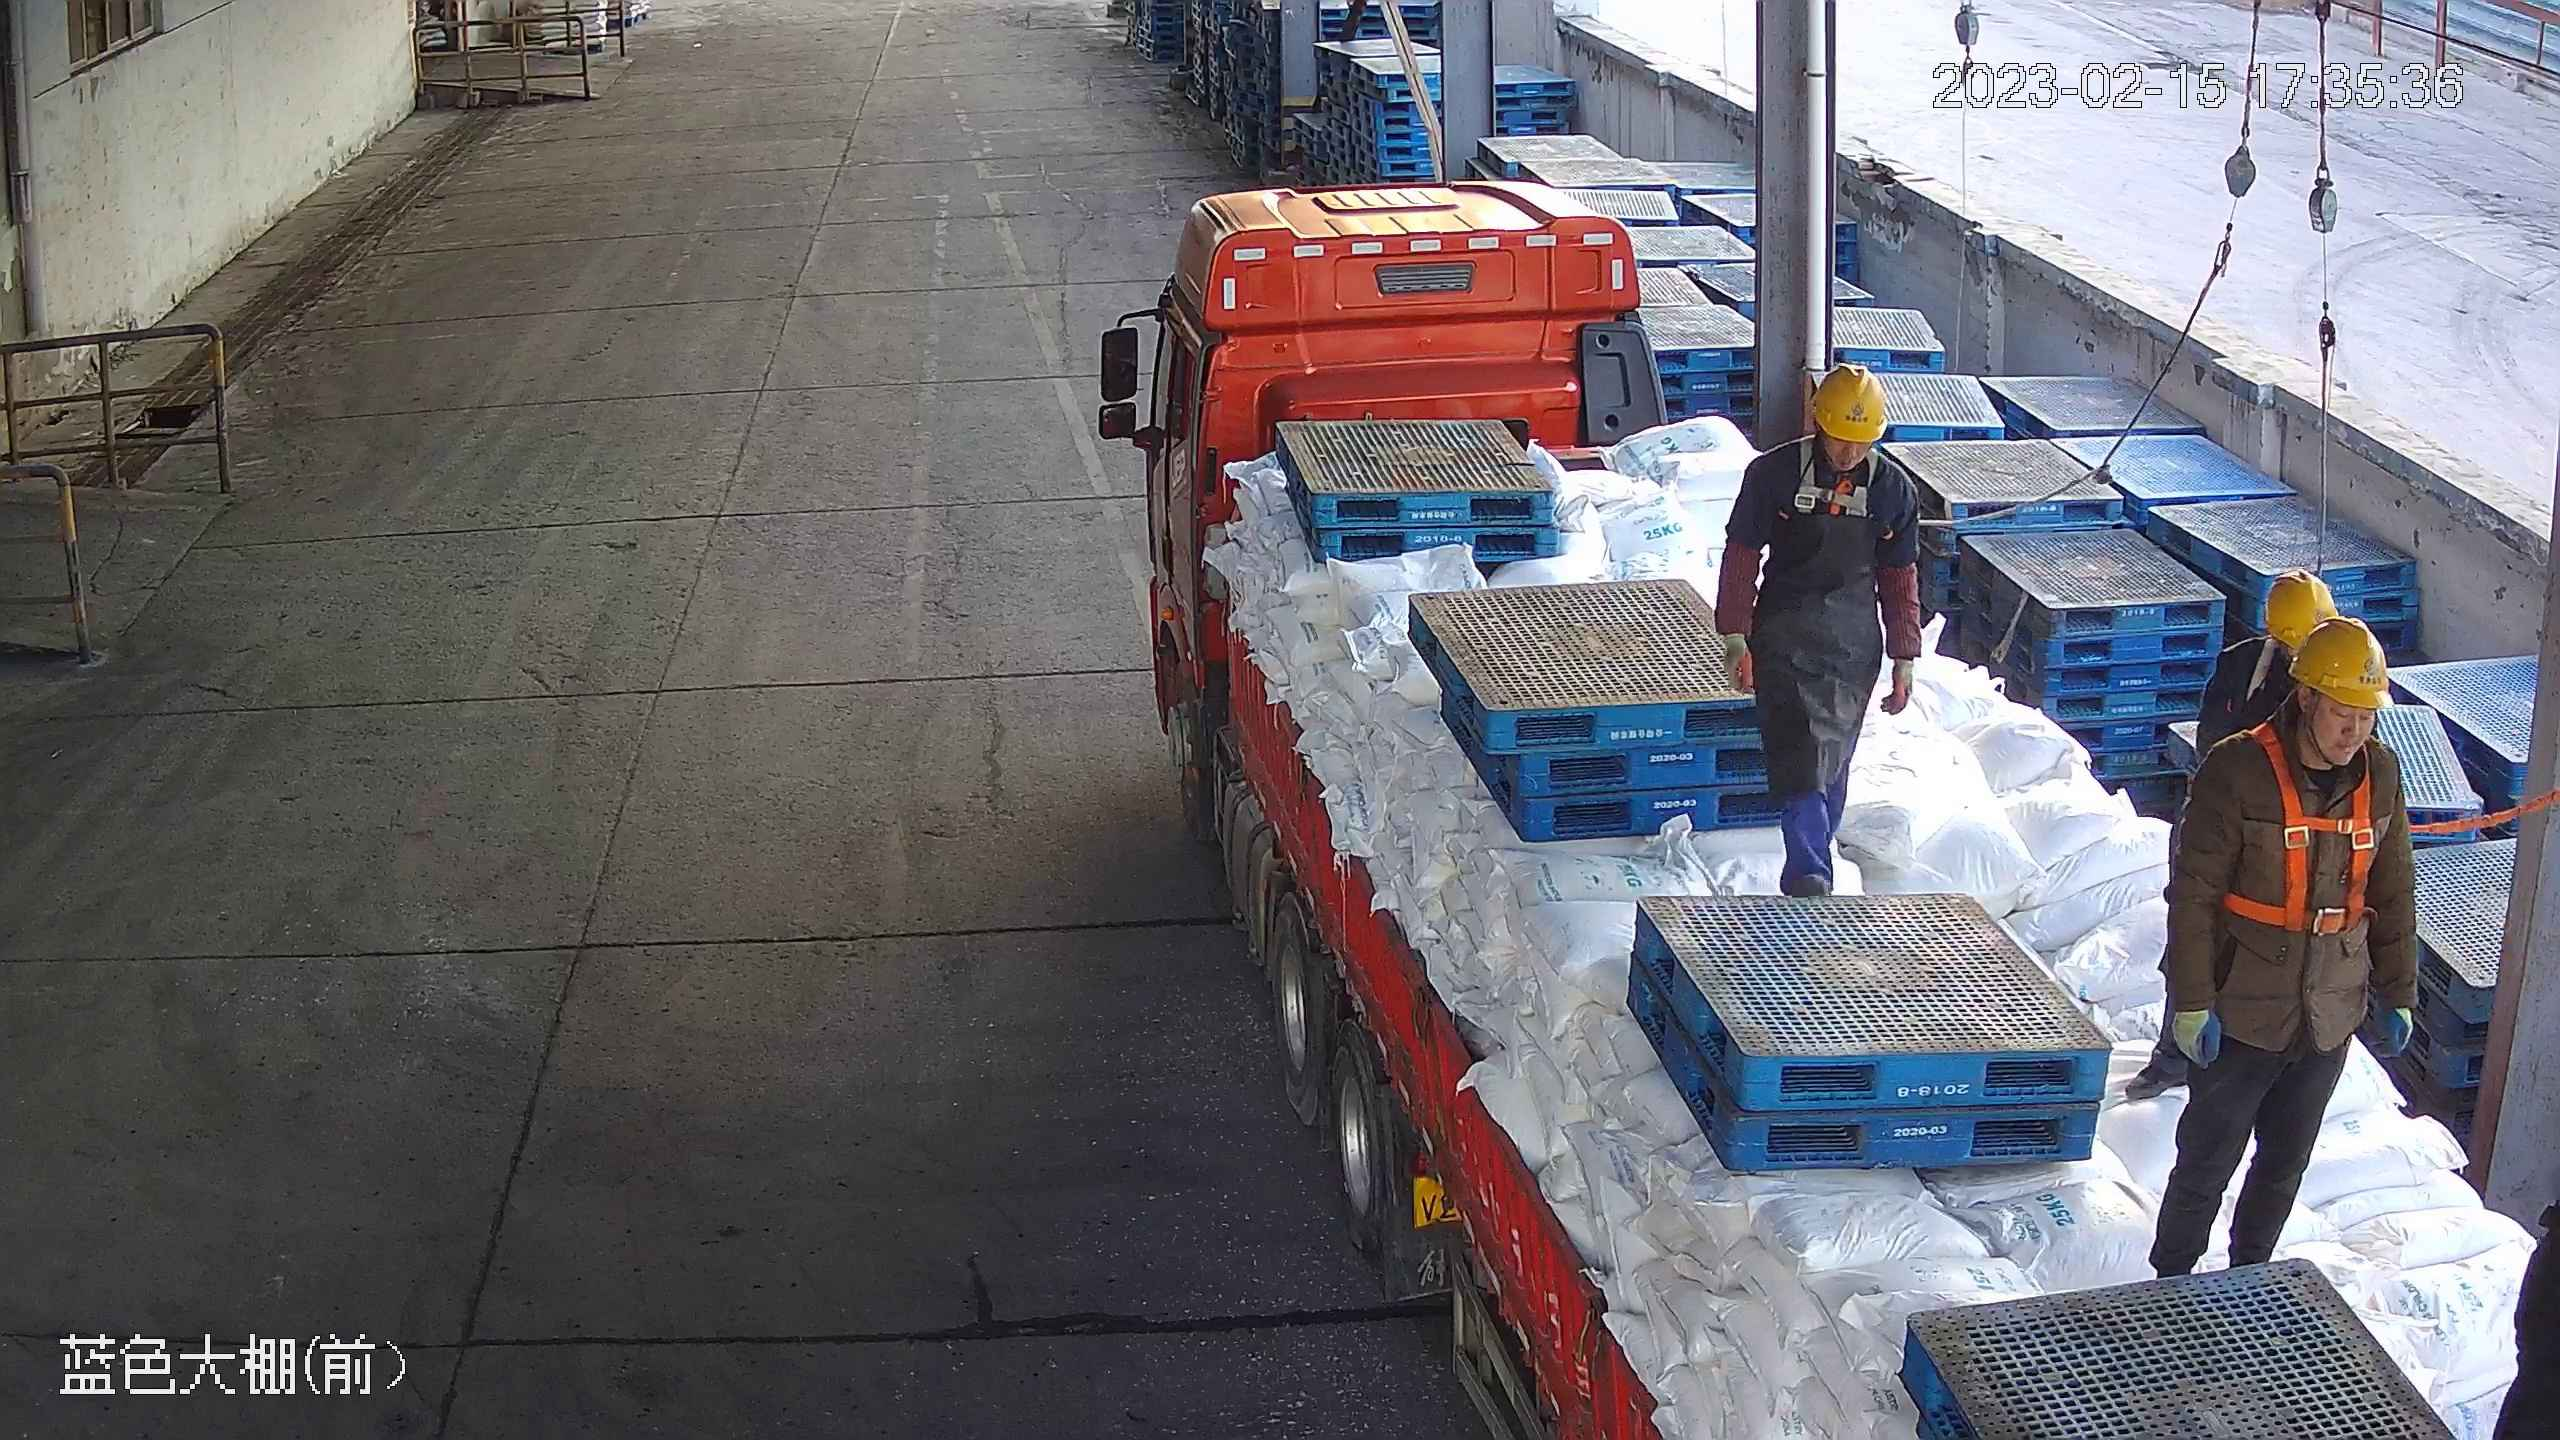belt: (2228, 725, 2401, 937), (1785, 439, 1939, 530)
head: (2194, 610, 2405, 790), (1721, 359, 1923, 519)
helmet: (2285, 613, 2396, 711), (1806, 361, 1892, 450), (2261, 568, 2340, 653)
people: (2140, 612, 2425, 1281), (1713, 353, 1926, 909)
truck: (1146, 177, 2560, 1440)
